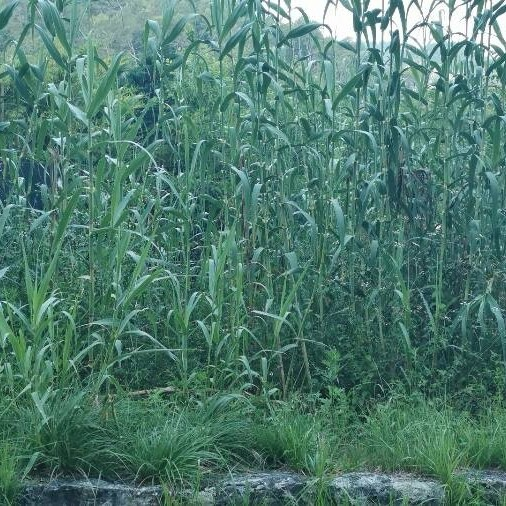obstacle: (71, 29, 459, 466), (5, 288, 493, 474)
